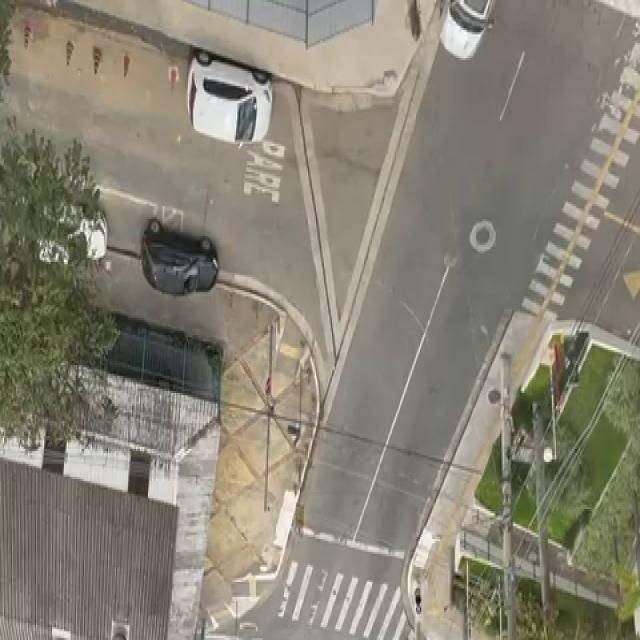car: (177, 42, 276, 156), (19, 195, 116, 282), (134, 218, 230, 304), (430, 0, 502, 72)
